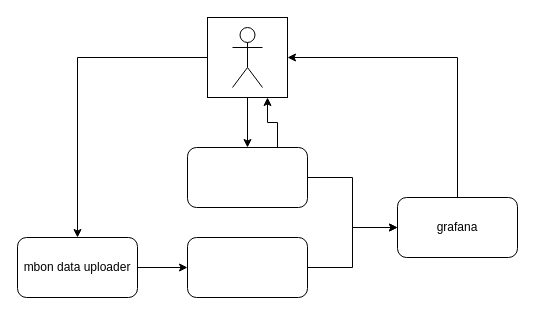
This 535x315 diagram has some shape labels left out. Here are the shapes that lost their labels. From the top down, the centre of each, then its label:
At pixel 247 177: "ERDDAP".
At pixel 247 267: "influxdb".
